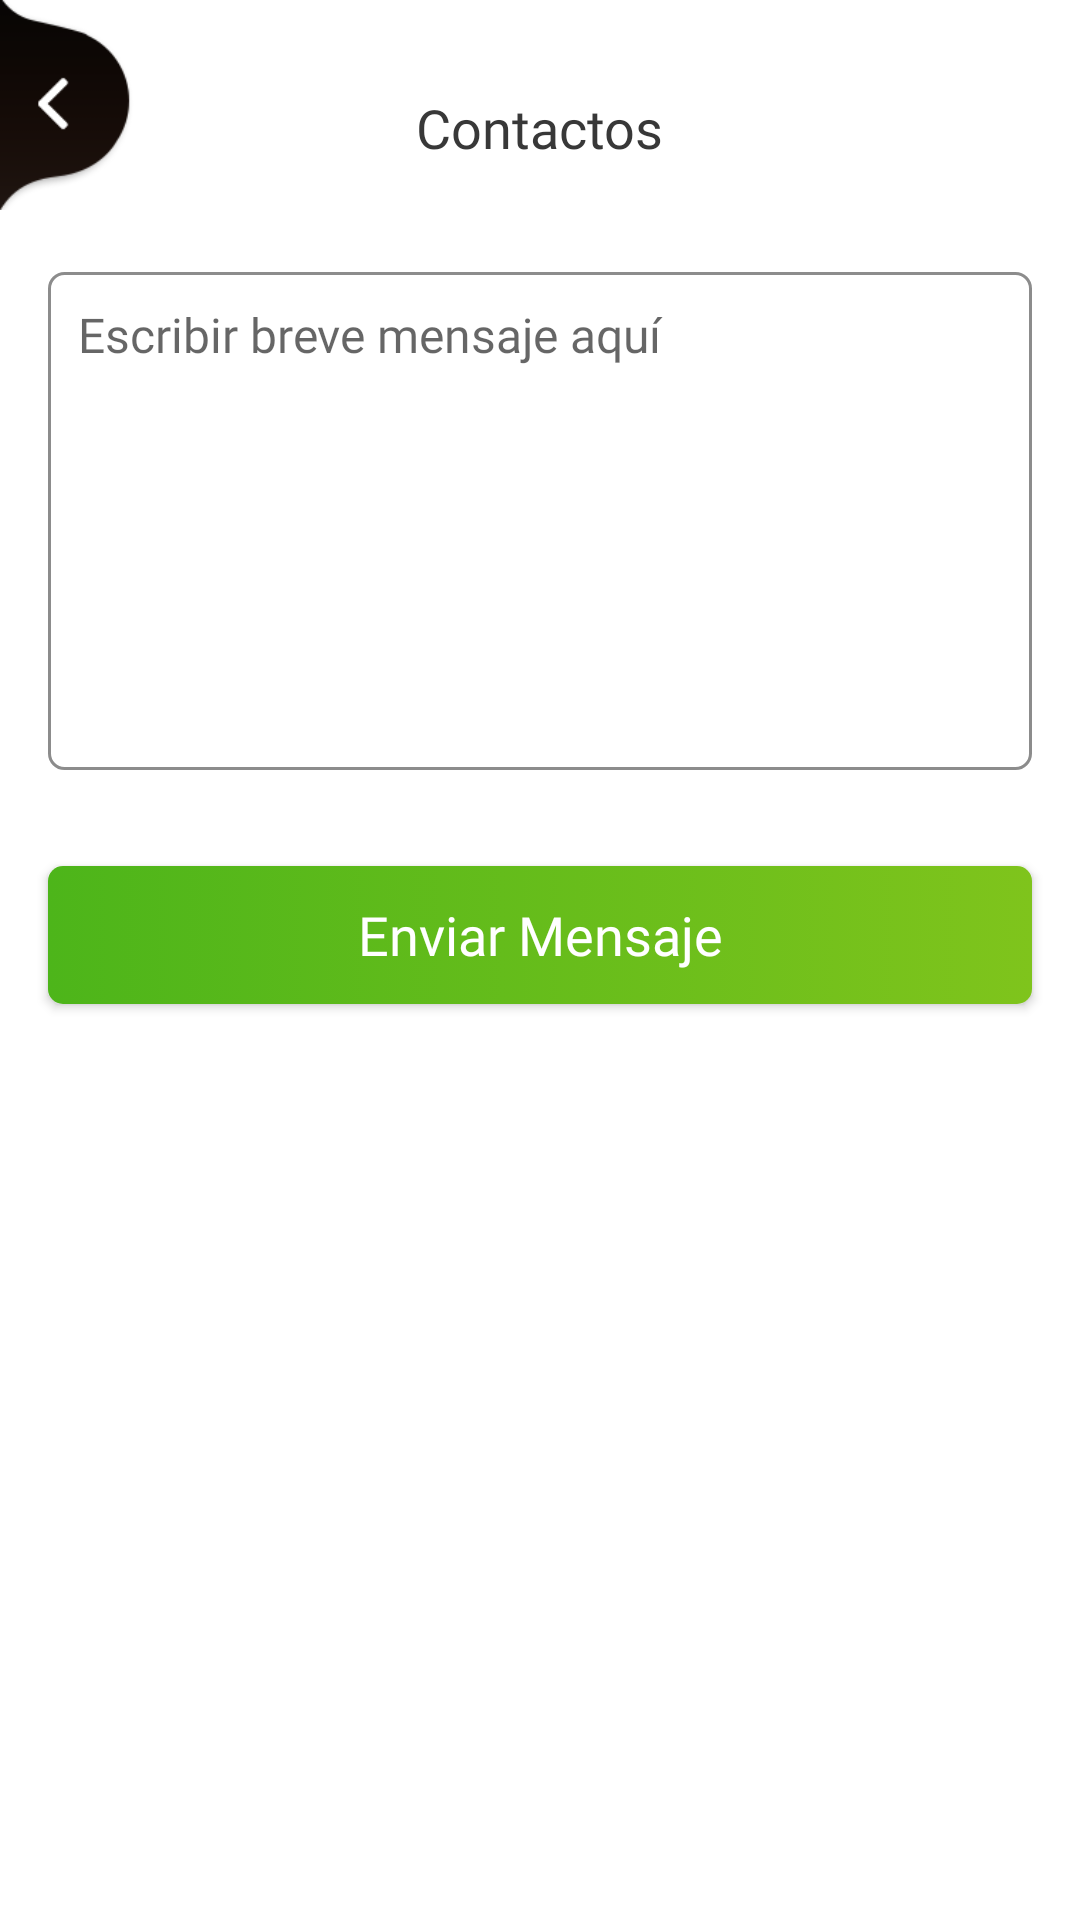

Icons on this 1080px×1920px Android screen, each with the point to tap as (x=x, y=y):
back: (x=65, y=105)
